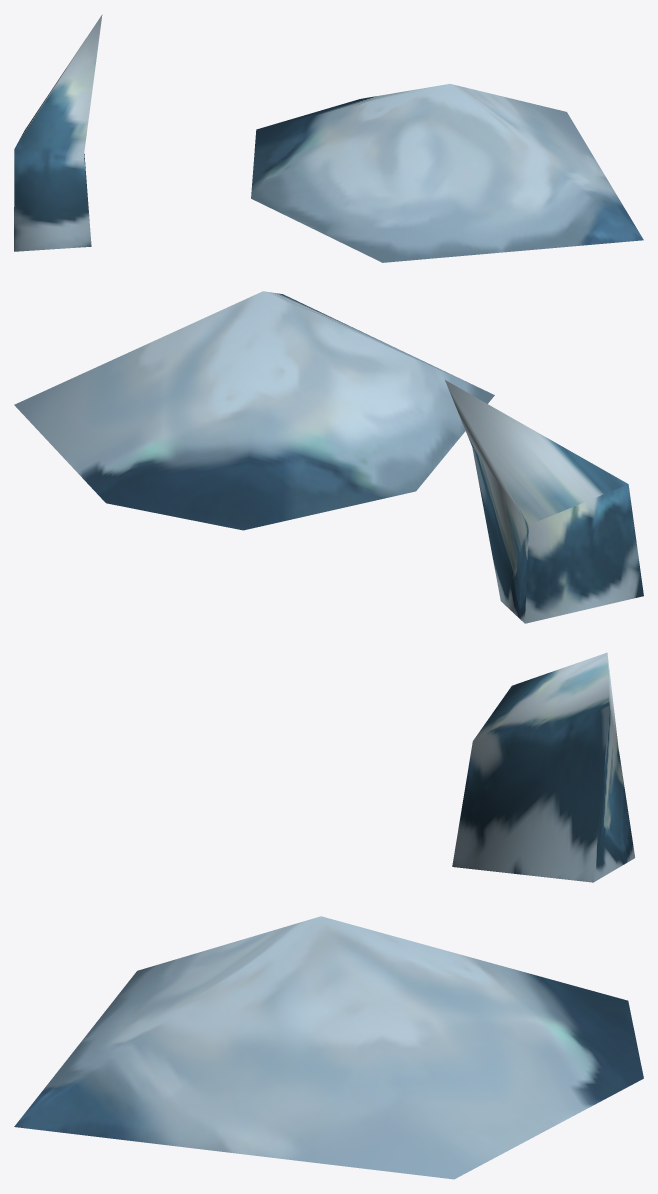
Rendered from Stage_BingYuan_FengHuoTaiShiDui05.FBX.
3 renders of one model, top to bottom at view 1: azimuth 30°, elevation 25°; view 2: azimuth 150°, elevation 25°; view 3: azimuth 270°, elevation 25°, orthographic. The views are drawn at different scales.
Parts seen in each view (by area): view 1: Stage_BingYuan_FengHuoTaiShiDui05; view 2: Stage_BingYuan_FengHuoTaiShiDui05; view 3: Stage_BingYuan_FengHuoTaiShiDui05.
Part boxes in pixels (x1=…): Stage_BingYuan_FengHuoTaiShiDui05: x1=14, y1=14, x2=643, y2=262; Stage_BingYuan_FengHuoTaiShiDui05: x1=14, y1=291, x2=643, y2=623; Stage_BingYuan_FengHuoTaiShiDui05: x1=14, y1=652, x2=643, y2=1179.
Bounding box in the file's own units: 88.5 × 27.93 × 61.32.
